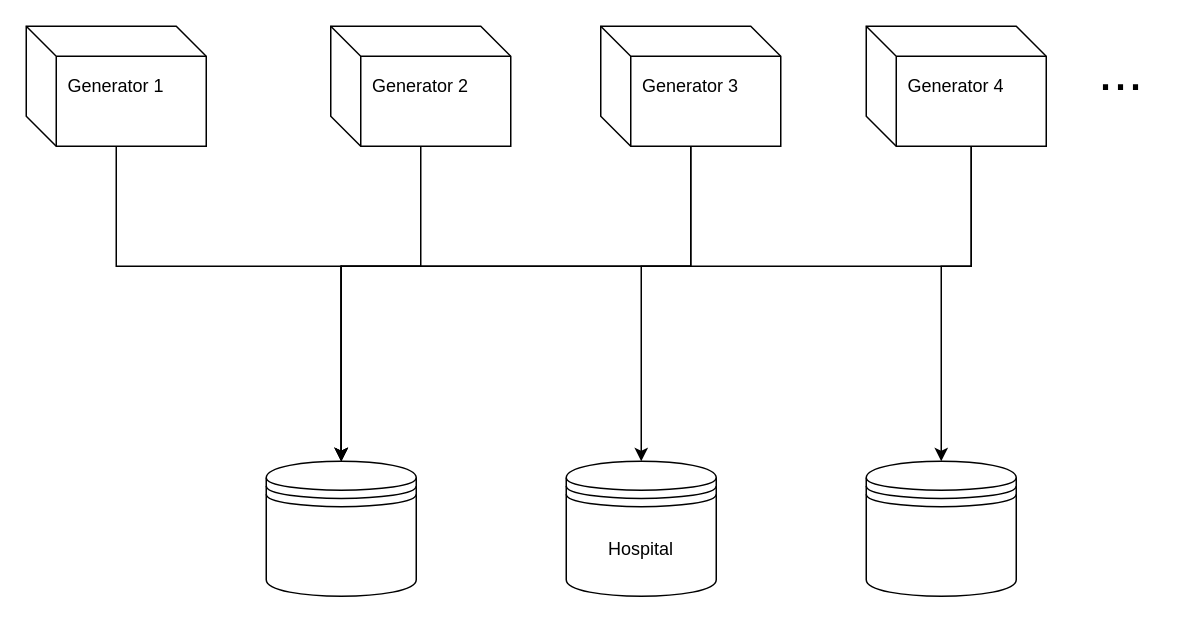
This 1178x623 diagram has some shape labels left out. Each missing label, with the centre of its shape:
Edifice: the point at 940,528
School: the point at 340,528
